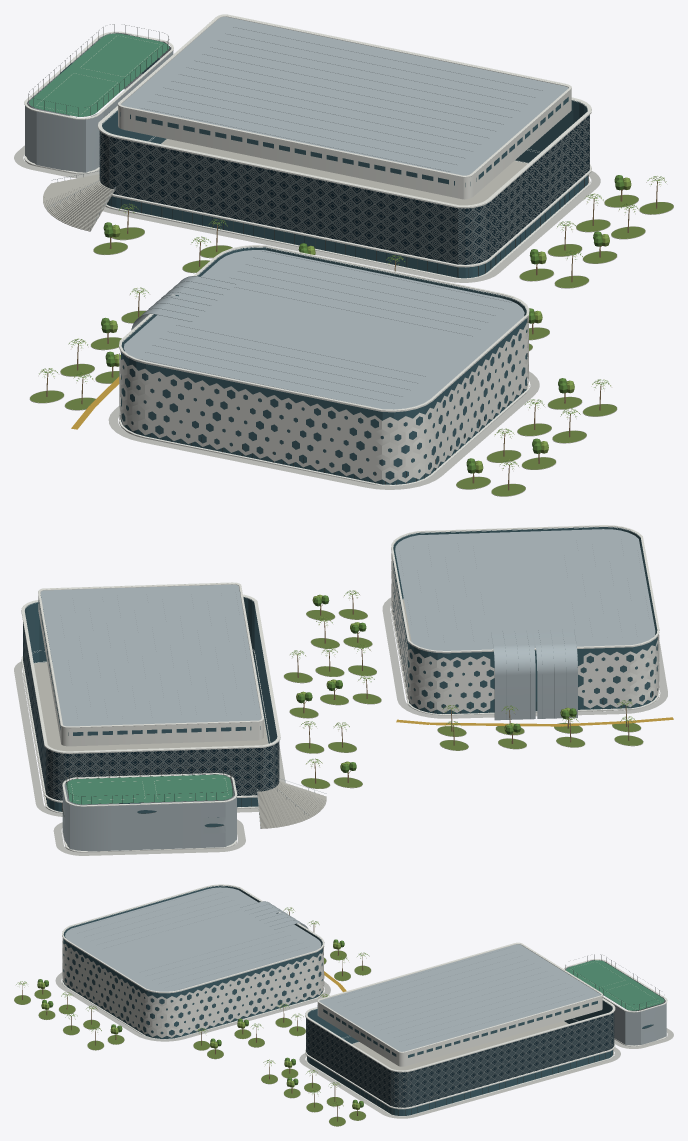
Rendered from sports-lod2.glb.
3 renders of one model, top to bottom at view 1: azimuth 30°, elevation 25°; view 2: azimuth 150°, elevation 25°; view 3: azimuth 270°, elevation 25°, orthographic. The views are drawn at different scales.
Parts seen in each view (by area): view 1: gym roof | silver shell.002, pool roof | silver shell.002, gym distant screen | distant maze, pool perforated panels | ivory metal.002, gym shell | ivory metal.002, pool glazing | dark glazing.002, gym glazing | dark glazing.002, site lawn islands | lawn.002, site perimeter paving | pale paving.002, annex rooftop court | court green.002, annex cladding | silver shell.002, pool shell | ivory metal.002 (+8 smaller); view 2: gym roof | silver shell.002, pool roof | silver shell.002, pool perforated panels | ivory metal.002, gym shell | ivory metal.002, annex cladding | silver shell.002, gym distant screen | distant maze, pool central curved wrap | silver shell.002, pool glazing | dark glazing.002, site lawn islands | lawn.002, site perimeter paving | pale paving.002, annex rooftop court | court green.002, gym glazing | dark glazing.002 (+9 smaller); view 3: pool roof | silver shell.002, gym roof | silver shell.002, gym distant screen | distant maze, pool perforated panels | ivory metal.002, gym shell | ivory metal.002, pool glazing | dark glazing.002, gym glazing | dark glazing.002, site lawn islands | lawn.002, site perimeter paving | pale paving.002, annex rooftop court | court green.002, annex cladding | silver shell.002, pool shell | ivory metal.002 (+7 smaller).
Part boxes in pixels (x1,y1,x2,y2): gym roof | silver shell.002: [121, 16, 568, 175]; pool roof | silver shell.002: [123, 250, 524, 409]; gym distant screen | distant maze: [99, 115, 589, 264]; pool perforated panels | ivory metal.002: [119, 316, 528, 483]; gym shell | ivory metal.002: [97, 14, 591, 278]; pool glazing | dark glazing.002: [121, 247, 527, 484]; gym glazing | dark glazing.002: [102, 97, 587, 278]; site lawn islands | lawn.002: [30, 195, 673, 496]; site perimeter paving | pale paving.002: [14, 145, 600, 489]; annex rooftop court | court green.002: [29, 33, 169, 116]; annex cladding | silver shell.002: [25, 32, 173, 172]; pool shell | ivory metal.002: [119, 245, 529, 485]; gym roof | silver shell.002: [40, 584, 261, 726]; pool roof | silver shell.002: [395, 529, 655, 650]; pool perforated panels | ivory metal.002: [391, 553, 659, 712]; gym shell | ivory metal.002: [21, 582, 280, 813]; annex cladding | silver shell.002: [62, 774, 236, 851]; gym distant screen | distant maze: [23, 622, 279, 800]; pool central curved wrap | silver shell.002: [491, 628, 577, 720]; pool glazing | dark glazing.002: [393, 527, 657, 713]; site lawn islands | lawn.002: [284, 609, 643, 788]; site perimeter paving | pale paving.002: [14, 597, 667, 855]; annex rooftop court | court green.002: [66, 774, 233, 804]; gym glazing | dark glazing.002: [25, 592, 277, 811]; pool roof | silver shell.002: [65, 887, 321, 991]; gym roof | silver shell.002: [319, 944, 600, 1051]; gym distant screen | distant maze: [306, 1012, 614, 1107]; pool perforated panels | ivory metal.002: [62, 938, 324, 1037]; gym shell | ivory metal.002: [305, 942, 615, 1116]; pool glazing | dark glazing.002: [63, 885, 322, 1038]; gym glazing | dark glazing.002: [307, 1000, 612, 1115]; site lawn islands | lawn.002: [14, 950, 370, 1126]; site perimeter paving | pale paving.002: [55, 972, 673, 1118]; annex rooftop court | court green.002: [566, 960, 664, 1010]; annex cladding | silver shell.002: [565, 960, 666, 1045]; pool shell | ivory metal.002: [62, 884, 324, 1039].
Size of the model in its own units: 221 by 29.98 by 297.
15 materials, 1 textured.
